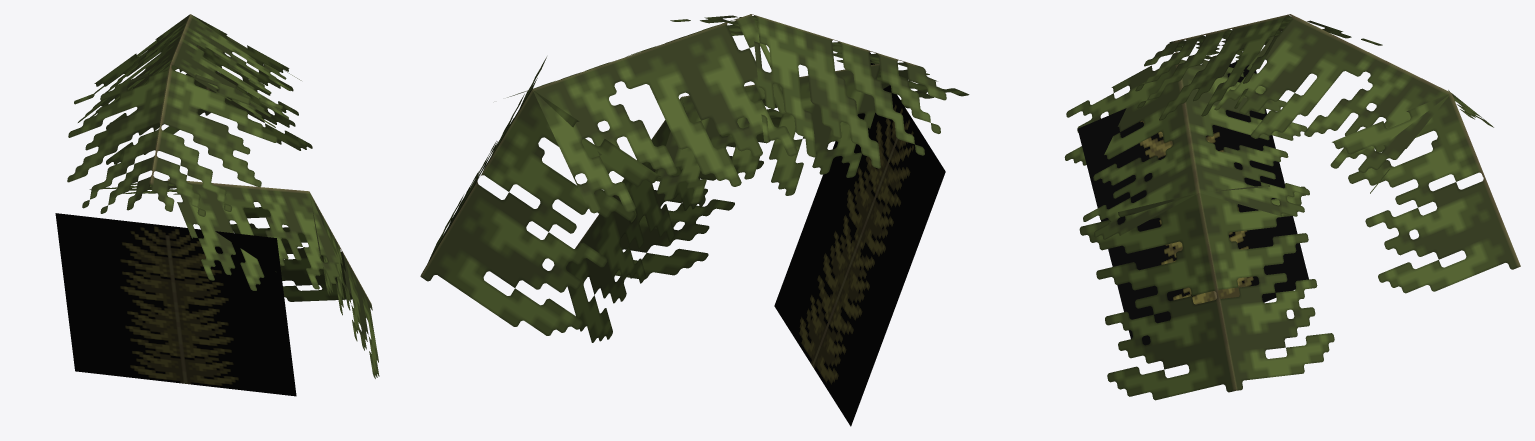
File: date_palm_corner_1.obj
The picture shows the model from 3 angles, left to right: view 1: azimuth 30°, elevation 25°; view 2: azimuth 150°, elevation 25°; view 3: azimuth 270°, elevation 25°; orthographic projection. The views are drawn at different scales.
Parts seen in each view (by area): view 1: cube.299; view 2: cube.299; view 3: cube.299.
Boxes of the visible parts, x1=… form: cube.299: x1=55, y1=14, x2=379, y2=396; cube.299: x1=420, y1=14, x2=969, y2=426; cube.299: x1=1064, y1=14, x2=1520, y2=400.
Size of the model in its own units: 2.74 by 2.28 by 2.94.
